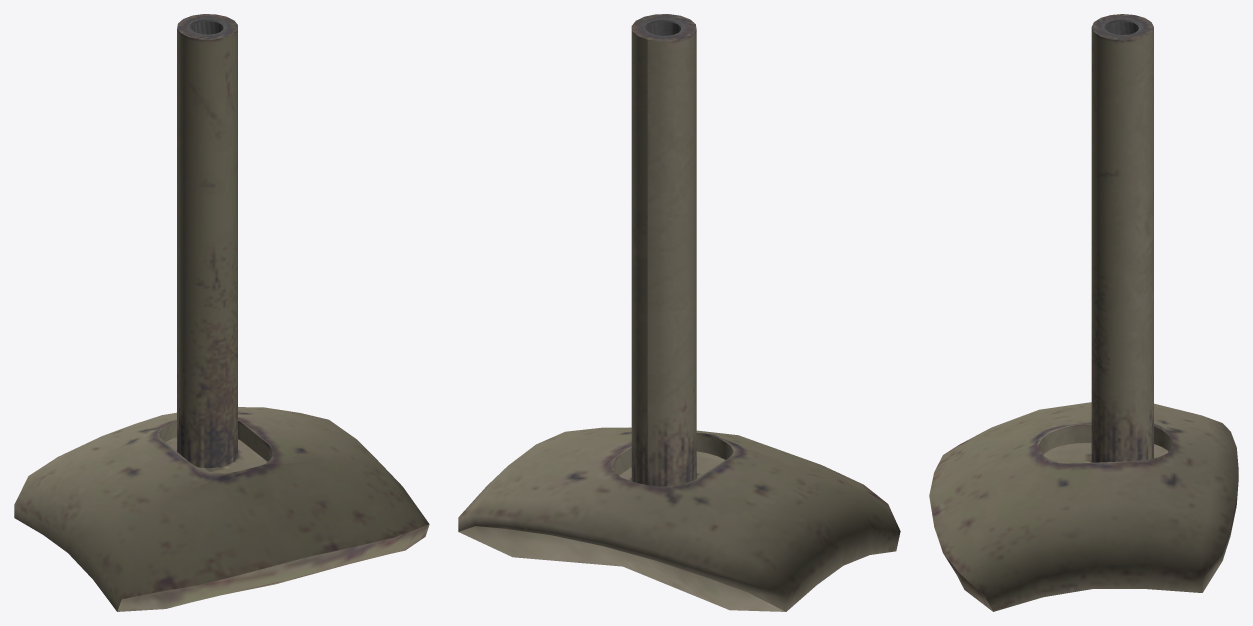
The model's file is Gun_01.glb.
3 views of the same model, side by side, from view 1: azimuth 30°, elevation 25°; view 2: azimuth 150°, elevation 25°; view 3: azimuth 270°, elevation 25° (orthographic). The views are drawn at different scales.
Visible parts, largest first — view 1: set_0_group_0; view 2: set_0_group_0; view 3: set_0_group_0.
Part boxes in pixels (left/top/right/bottom): set_0_group_0: left=14, top=14, right=429, bottom=611; set_0_group_0: left=458, top=14, right=900, bottom=611; set_0_group_0: left=929, top=14, right=1238, bottom=611.
Size of the model in its own units: 0.6321 by 0.9986 by 0.5411.
1 material, 1 textured.
